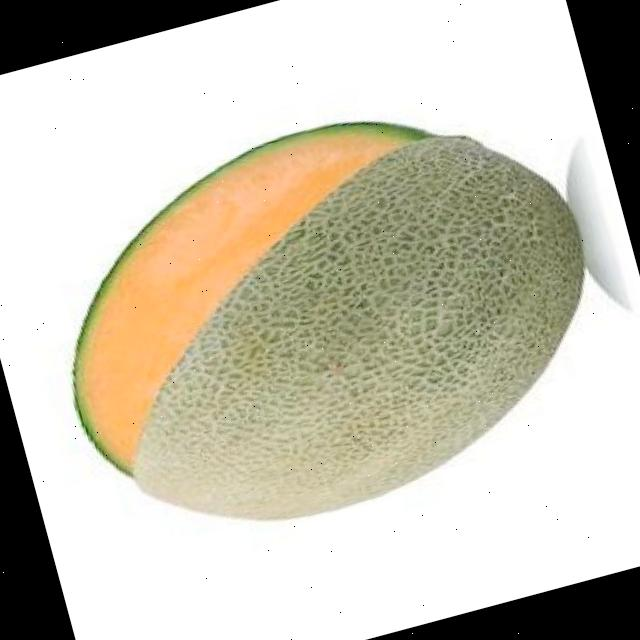Hami Melon: (19, 66, 632, 569)
